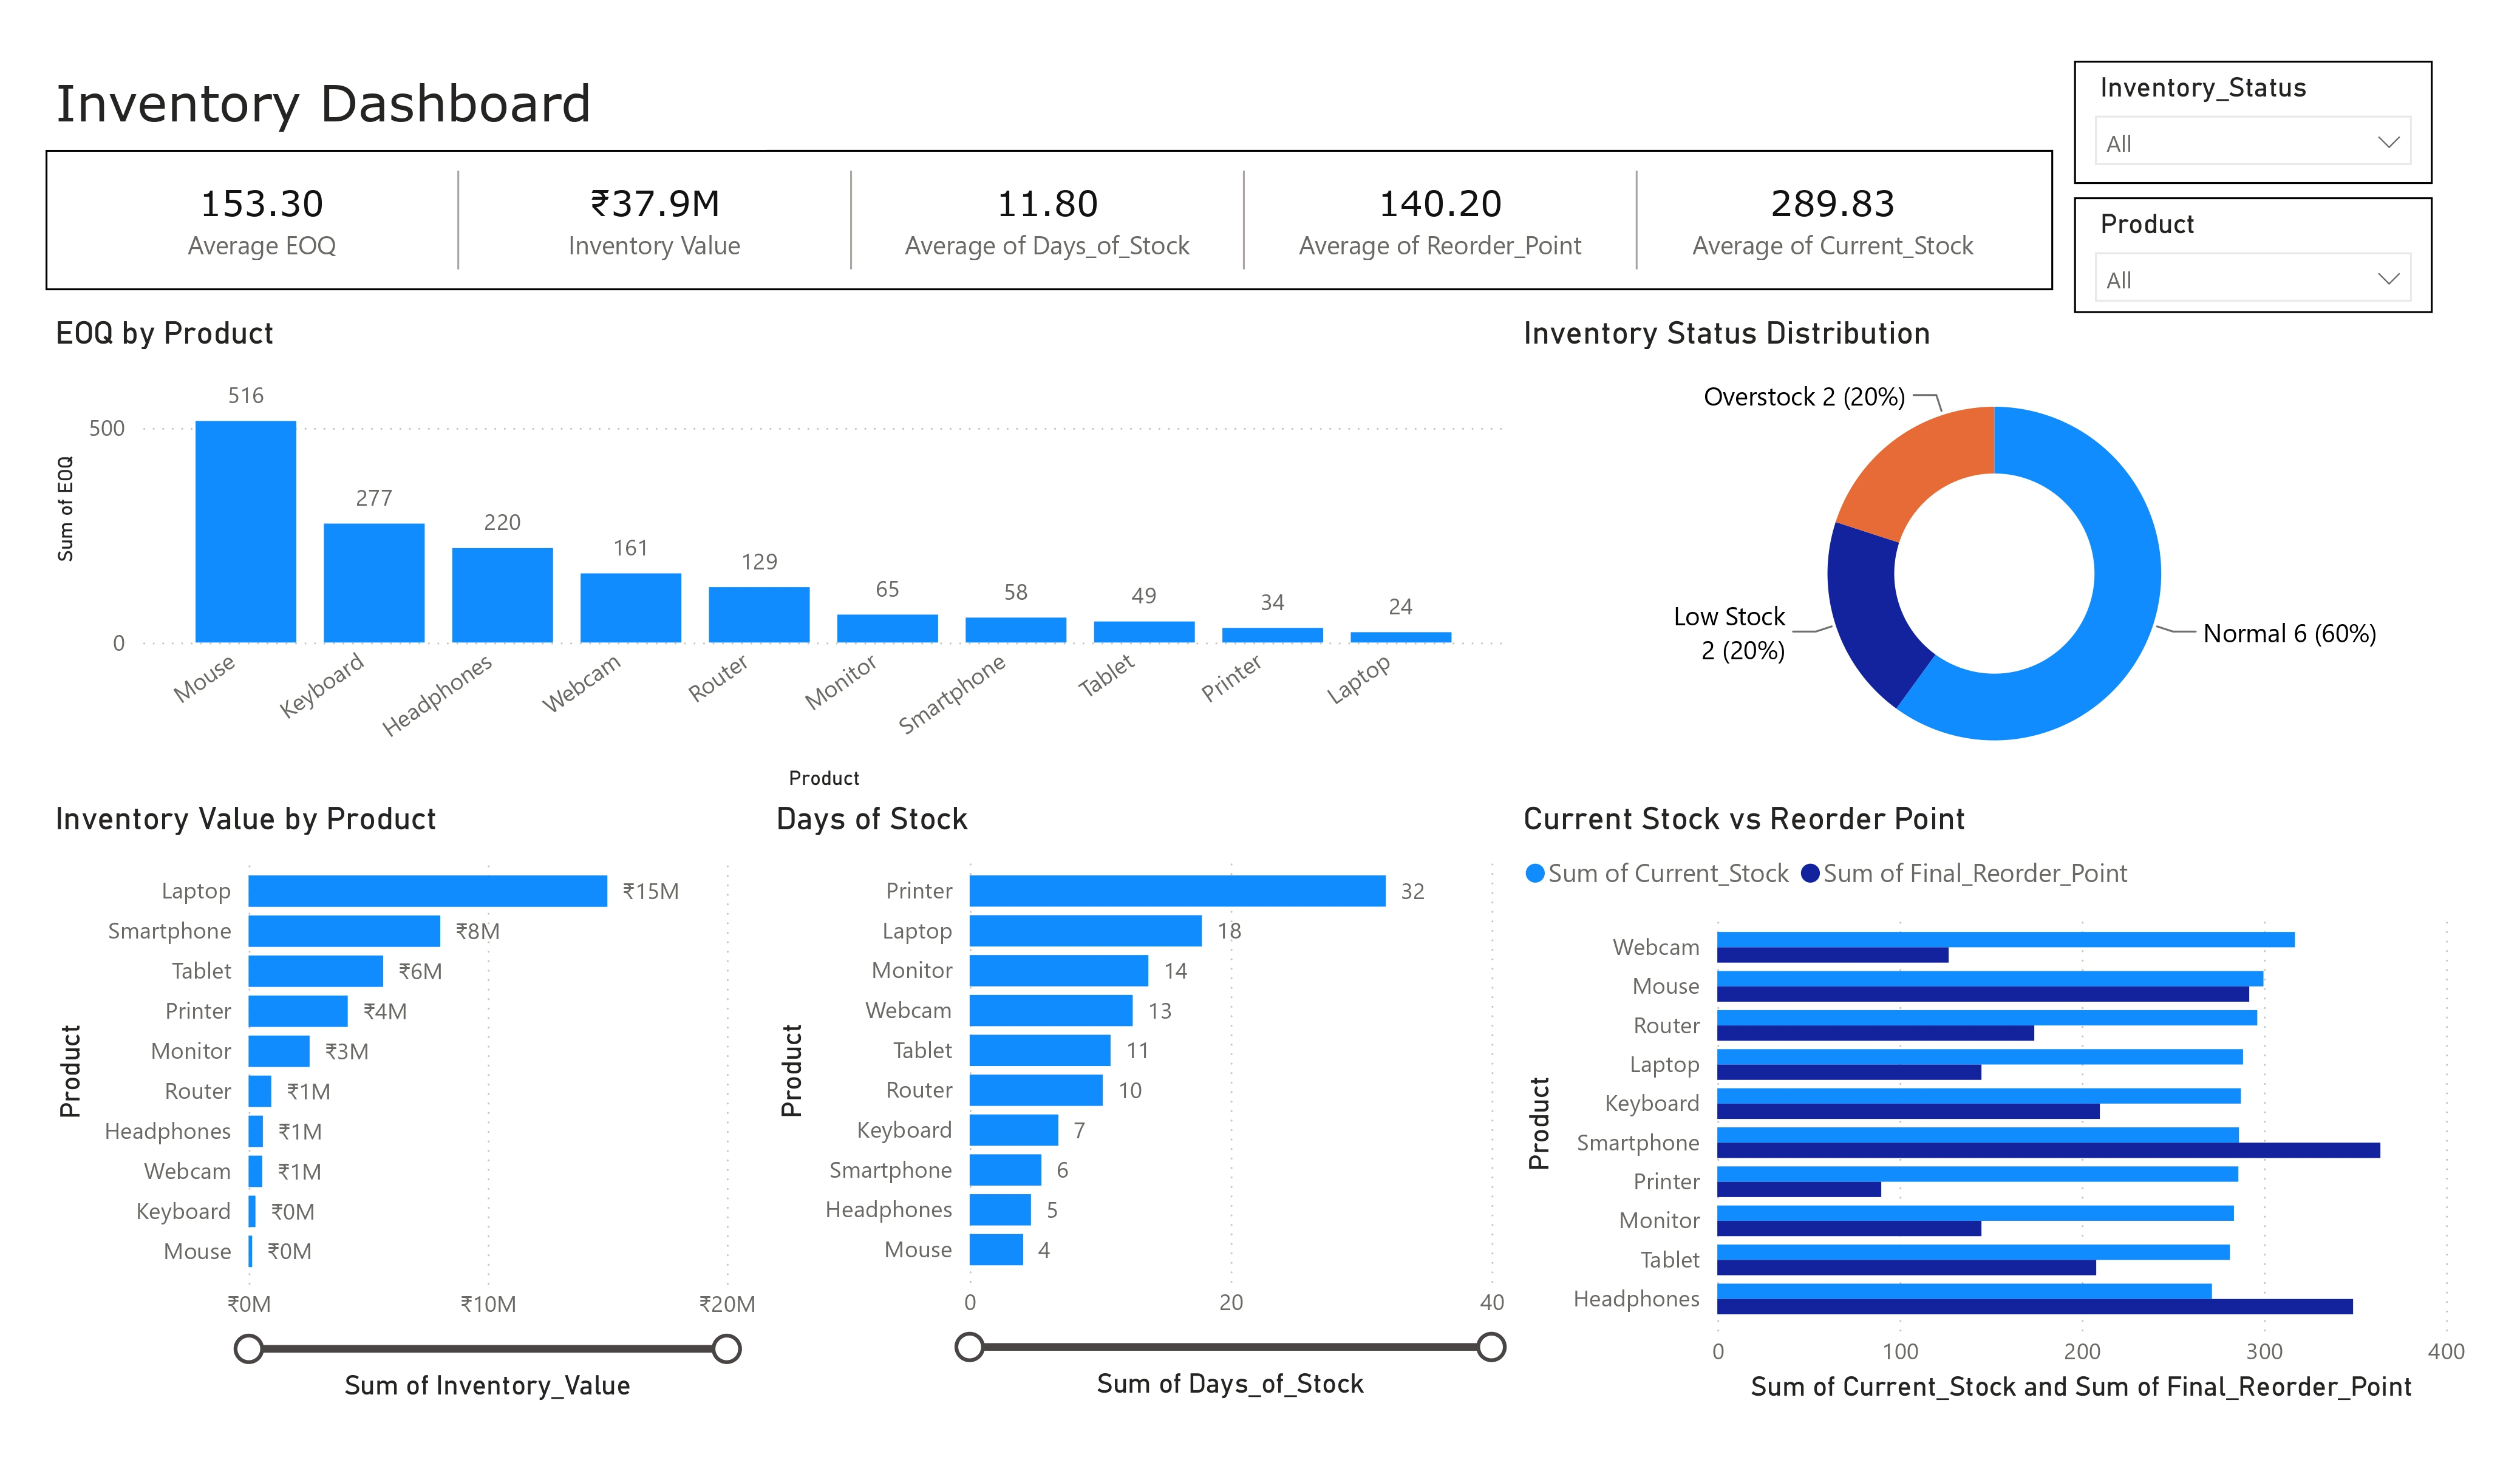

The dashboard page shown, as its layout file describes it:
{"tool":"powerbi","page":{"name":"Inventory Dashboard","canvas":[1280,720],"ordinal":2},"visuals":[{"type":"cardVisual","fields":{"Data":["Avg(master_inventory_dashboard.EOQ)","Sum(master_inventory_dashboard.Inventory_Value)","Avg(master_inventory_dashboard.Days_of_Stock)","Avg(master_inventory_dashboard.Reorder_Point)","Avg(master_inventory_dashboard.Current_Stock)"]},"box":[0,54.5,1058.4,74.2],"z":0},{"type":"donutChart","title":"Inventory Status Distribution","fields":{"Category":["master_inventory_dashboard.Inventory_Status"],"Y":["CountNonNull(master_inventory_dashboard.Product)"]},"box":[773.8,140.8,505.7,255.9],"z":1000},{"type":"clusteredBarChart","title":"Inventory Value by Product","fields":{"Category":["master_inventory_dashboard.Product"],"Y":["Sum(master_inventory_dashboard.Inventory_Value)"]},"box":[0,396.7,380.1,322.5],"z":2000},{"type":"clusteredColumnChart","title":"EOQ by Product","fields":{"Y":["Sum(master_inventory_dashboard.EOQ)"],"Category":["master_inventory_dashboard.Product"]},"box":[0,140.8,773.8,255.9],"z":3000},{"type":"barChart","title":"Days of Stock","fields":{"Category":["master_inventory_dashboard.Product"],"Y":["Sum(master_inventory_dashboard.Days_of_Stock)"]},"box":[380.1,396.7,393.7,321],"z":4000},{"type":"clusteredBarChart","title":"Current Stock vs Reorder Point","fields":{"Category":["master_inventory_dashboard.Product"],"Y":["Sum(master_inventory_dashboard.Current_Stock)","Sum(master_inventory_dashboard.Final_Reorder_Point)"]},"box":[773.8,396.7,505.7,322.5],"z":5000},{"type":"slicer","fields":{"Values":["master_inventory_dashboard.Product"]},"box":[1069,80.3,189.3,60.6],"z":6000},{"type":"textbox","box":[0,7.6,380.1,46.9],"z":7000},{"type":"slicer","fields":{"Values":["master_inventory_dashboard.Inventory_Status"]},"box":[1069,7.6,189.3,65.1],"z":8000}]}

Visuals, with their boxes on the page's 1280x720 design canvas (x1, y1, x2, y2). These are canvas units, not pixel positions in the 2520x1457 screenshot, which may show the page scaled, cropped or inside an application window:
cardVisual - Avg(master_inventory_dashboard.EOQ) x Sum(master_inventory_dashboard.Inventory_Value): {"x1": 0, "y1": 54, "x2": 1058, "y2": 129}
"Inventory Status Distribution" donutChart: {"x1": 774, "y1": 141, "x2": 1280, "y2": 397}
"Inventory Value by Product" clusteredBarChart: {"x1": 0, "y1": 397, "x2": 380, "y2": 719}
"EOQ by Product" clusteredColumnChart: {"x1": 0, "y1": 141, "x2": 774, "y2": 397}
"Days of Stock" barChart: {"x1": 380, "y1": 397, "x2": 774, "y2": 718}
"Current Stock vs Reorder Point" clusteredBarChart: {"x1": 774, "y1": 397, "x2": 1280, "y2": 719}
slicer - master_inventory_dashboard.Product: {"x1": 1069, "y1": 80, "x2": 1258, "y2": 141}
textbox: {"x1": 0, "y1": 8, "x2": 380, "y2": 54}
slicer - master_inventory_dashboard.Inventory_Status: {"x1": 1069, "y1": 8, "x2": 1258, "y2": 73}
